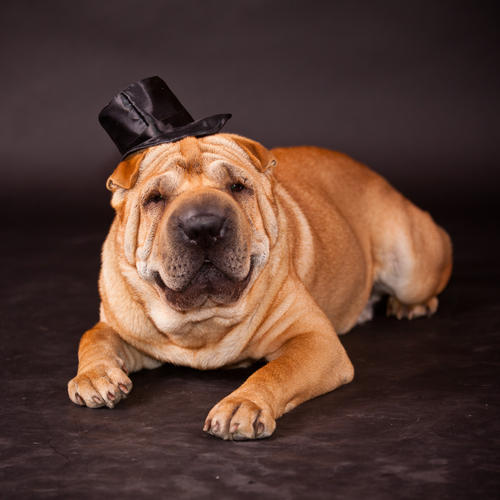dog: (76, 126, 296, 341)
